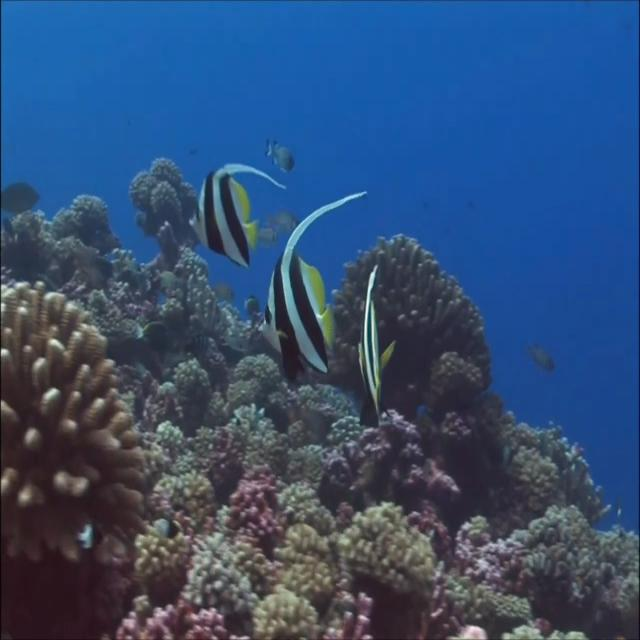Bannerfish: (259, 190, 365, 372), (187, 164, 283, 266), (360, 262, 392, 412)
